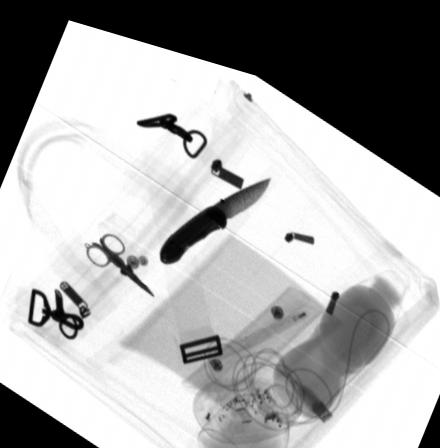Knife: (160, 159, 271, 252)
Scissors: (84, 225, 154, 285)
